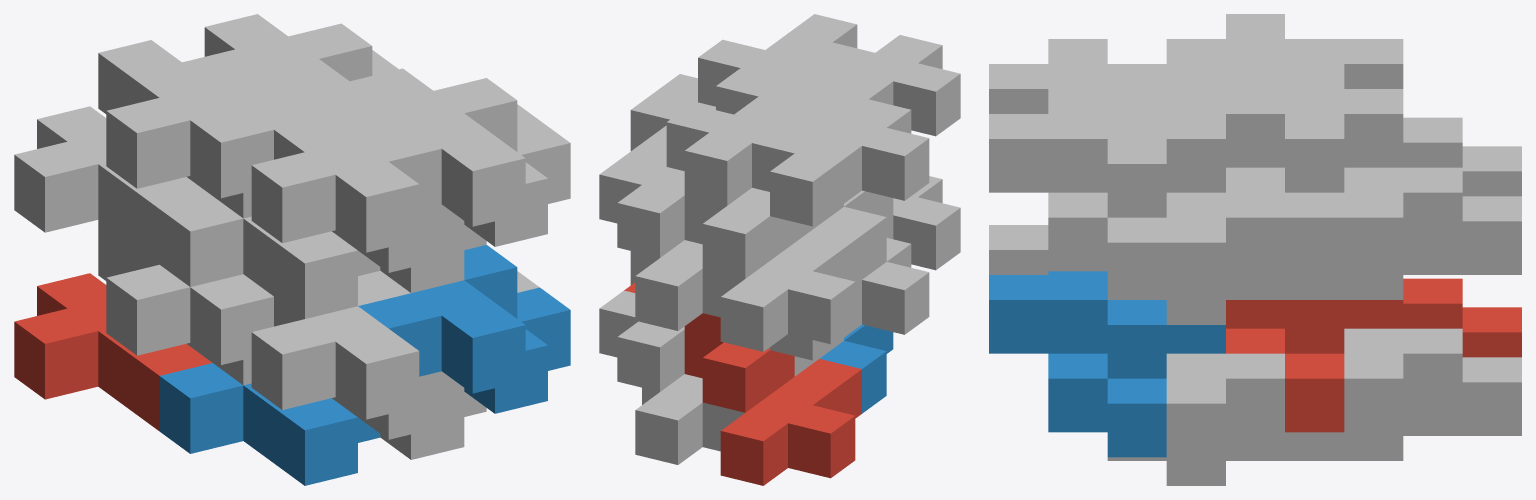
The model's file is tiling.obj.
The picture shows the model from 3 angles, left to right: view 1: azimuth 30°, elevation 25°; view 2: azimuth 150°, elevation 25°; view 3: azimuth 270°, elevation 25°; orthographic projection. The views are drawn at different scales.
Parts seen in each view (by area): view 1: copy_2_domain_8, copy_2_domain_4, copy_2_domain_3, copy_2_domain_6, copy_2_domain_2, copy_1_domain_2, copy_1_domain_4, copy_2_domain_1, copy_1_domain_1, copy_1_domain_3, copy_2_domain_7, copy_1_domain_6 (+1 smaller); view 2: copy_1_domain_3, copy_1_domain_1, copy_2_domain_3, copy_1_domain_7, copy_1_domain_5, copy_2_domain_7, copy_2_domain_4, copy_2_domain_8, copy_2_domain_1, copy_2_domain_2, copy_1_domain_2, copy_1_domain_4 (+2 smaller); view 3: copy_2_domain_8, copy_2_domain_6, copy_2_domain_7, copy_1_domain_5, copy_1_domain_7, copy_1_domain_6, copy_1_domain_8, copy_2_domain_5, copy_2_domain_4, copy_2_domain_3, copy_1_domain_1, copy_1_domain_3 (+1 smaller).
Boxes of the visible parts, x1,y1,x2,y2 form: copy_2_domain_8: (350, 68, 570, 246); copy_2_domain_4: (244, 94, 464, 272); copy_2_domain_3: (98, 40, 273, 218); copy_2_domain_6: (358, 245, 570, 413); copy_2_domain_2: (251, 270, 464, 439); copy_1_domain_2: (159, 363, 380, 485); copy_1_domain_4: (159, 196, 380, 318); copy_2_domain_1: (98, 220, 273, 385); copy_1_domain_1: (14, 273, 212, 431); copy_1_domain_3: (14, 106, 212, 264); copy_2_domain_7: (204, 14, 398, 116); copy_1_domain_6: (380, 271, 539, 459); copy_1_domain_3: (684, 187, 861, 351); copy_1_domain_1: (684, 329, 861, 485); copy_2_domain_3: (752, 99, 929, 242); copy_1_domain_7: (599, 156, 744, 330); copy_1_domain_5: (599, 290, 744, 464); copy_2_domain_7: (624, 78, 843, 205); copy_2_domain_4: (783, 35, 960, 136); copy_2_domain_8: (655, 14, 874, 114); copy_2_domain_1: (770, 238, 929, 376); copy_2_domain_2: (886, 176, 960, 270); copy_1_domain_2: (819, 324, 893, 413); copy_1_domain_4: (819, 190, 893, 279); copy_2_domain_8: (989, 89, 1225, 296); copy_2_domain_6: (989, 271, 1225, 457); copy_2_domain_7: (1166, 64, 1403, 271); copy_1_domain_5: (1344, 328, 1521, 460); copy_1_domain_7: (1344, 167, 1521, 299); copy_1_domain_6: (1107, 353, 1344, 485); copy_1_domain_8: (1107, 192, 1344, 324); copy_2_domain_5: (1226, 300, 1403, 432); copy_2_domain_4: (989, 39, 1225, 113); copy_2_domain_3: (1166, 14, 1403, 88); copy_1_domain_1: (1403, 278, 1521, 357); copy_1_domain_3: (1403, 117, 1521, 196).
Bounding box in the file's own units: 7 × 6 × 9.
